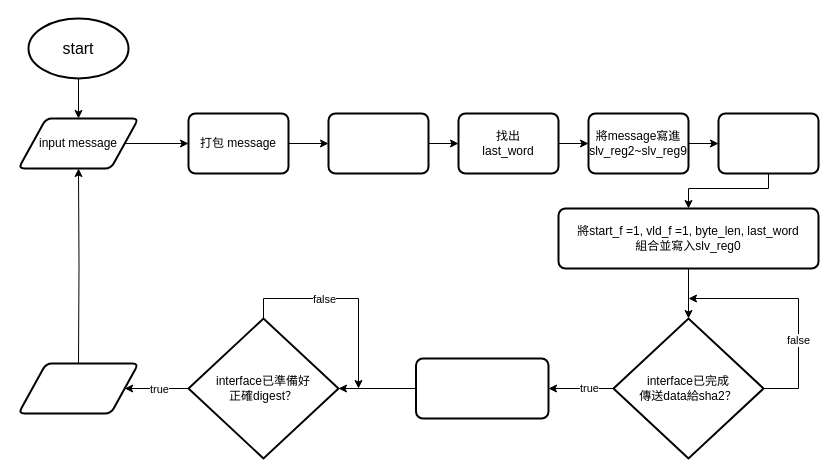
Image size: 836x476. Some labels were removed from this diagram. The box of each missing label's shape, as (x1, y1, x2, y2) in pixels:
print digest: (17, 362, 139, 414)
將byte_en 寫進slv_reg1: (717, 112, 819, 174)
將slv_reg0中的 vld_f和start_f拉成0: (414, 357, 549, 419)
計算並打包byte_en: (327, 112, 429, 174)
